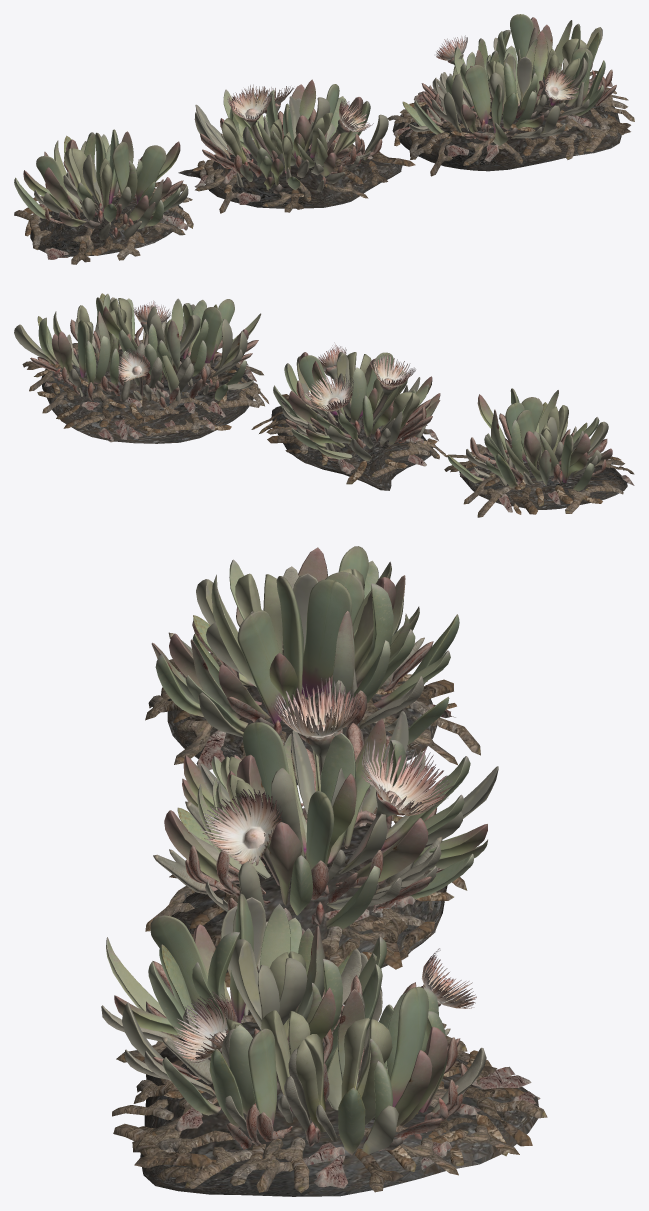
Rendered from cheiridopsis_succulent_01.glb.
3 views of the same model, one above another, from view 1: azimuth 30°, elevation 25°; view 2: azimuth 150°, elevation 25°; view 3: azimuth 270°, elevation 25° (orthographic). The views are drawn at different scales.
Parts seen in each view (by area): view 1: cheiridopsis_succulent, cheiridopsis_succulent_flower; view 2: cheiridopsis_succulent, cheiridopsis_succulent_flower; view 3: cheiridopsis_succulent, cheiridopsis_succulent_flower.
Part boxes in pixels (bbox=[...]): cheiridopsis_succulent: bbox=[14, 14, 634, 264]; cheiridopsis_succulent_flower: bbox=[227, 35, 578, 131]; cheiridopsis_succulent: bbox=[14, 293, 634, 517]; cheiridopsis_succulent_flower: bbox=[118, 300, 415, 411]; cheiridopsis_succulent: bbox=[101, 546, 547, 1196]; cheiridopsis_succulent_flower: bbox=[171, 676, 476, 1062].
Size of the model in its own units: 1.6 by 0.2695 by 0.5336.
Materials: 2 (2 with a texture image).
